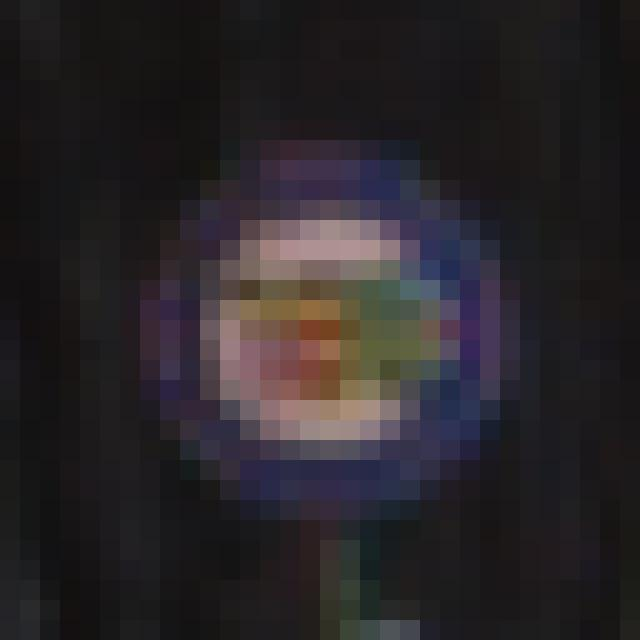SPEED LIMIT 100: (145, 159, 500, 508)
